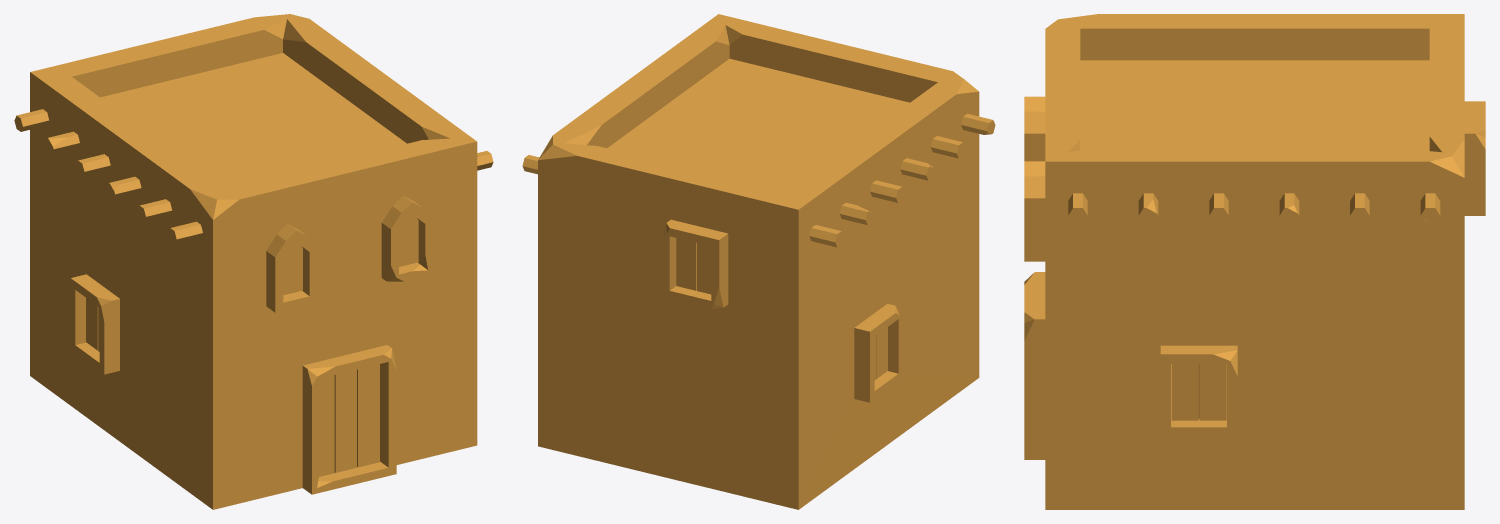
The model's file is house-egypt-small.fbx.
The picture shows the model from 3 angles, left to right: view 1: azimuth 30°, elevation 25°; view 2: azimuth 150°, elevation 25°; view 3: azimuth 270°, elevation 25°; orthographic projection. The views are drawn at different scales.
Parts seen in each view (by area): view 1: house-egypt-small; view 2: house-egypt-small; view 3: house-egypt-small.
Boxes of the visible parts, x1,y1,x2,y2 form: house-egypt-small: [14, 14, 493, 509]; house-egypt-small: [522, 14, 995, 509]; house-egypt-small: [1024, 14, 1485, 509].
Bounding box in the file's own units: 6 × 5.5 × 6.6.
